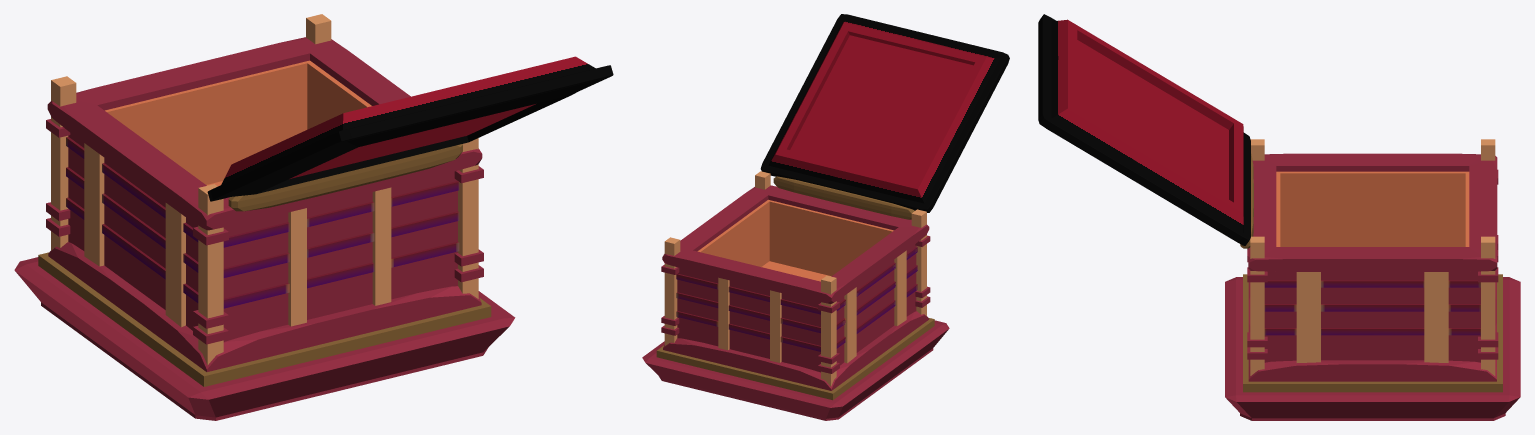
Rendered from Fox_Box.fbx.
3 views of the same model, side by side, from view 1: azimuth 30°, elevation 25°; view 2: azimuth 150°, elevation 25°; view 3: azimuth 270°, elevation 25° (orthographic). The views are drawn at different scales.
Parts seen in each view (by area): view 1: boxbake, lidbake; view 2: boxbake, lidbake; view 3: boxbake, lidbake.
Part boxes in pixels (x1,y1,x2,y2): boxbake: [14, 14, 515, 420]; lidbake: [207, 56, 613, 201]; boxbake: [642, 171, 949, 420]; lidbake: [760, 14, 1009, 212]; boxbake: [1225, 139, 1520, 420]; lidbake: [1038, 14, 1250, 245].
Size of the model in its own units: 257 by 297 by 418.
Materials: 6 (2 with a texture image).
